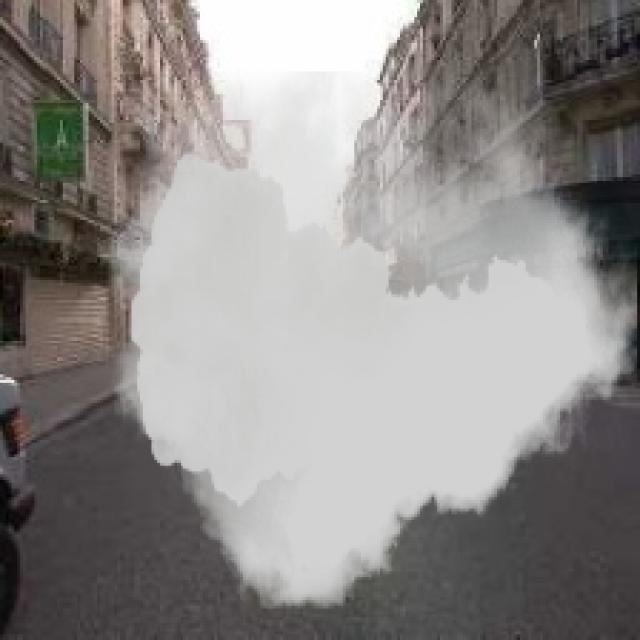smoke: (106, 71, 637, 608)
